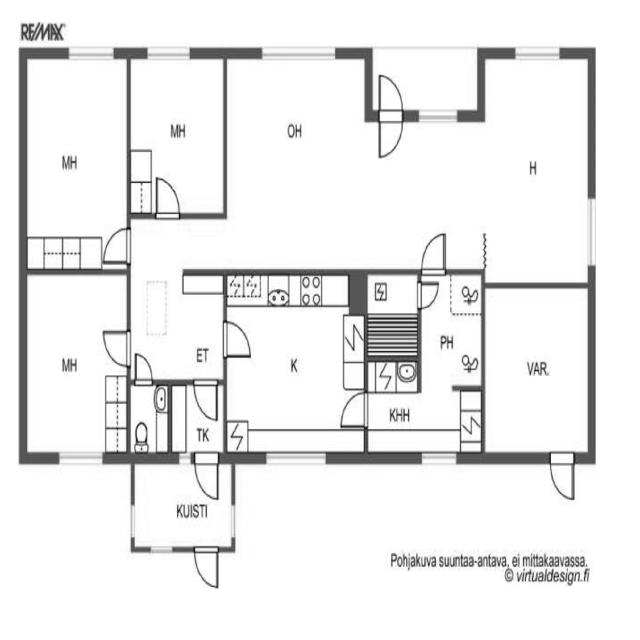door: (373, 72, 406, 163), (545, 445, 579, 507), (417, 227, 450, 285), (190, 447, 222, 504), (190, 540, 222, 594), (190, 375, 222, 425), (152, 174, 184, 222), (100, 325, 134, 370), (336, 387, 369, 430), (222, 317, 254, 361), (101, 224, 133, 268), (414, 277, 442, 311), (132, 348, 154, 389)
window: (260, 446, 335, 473), (581, 188, 602, 278), (258, 42, 338, 65), (50, 446, 109, 474), (62, 40, 120, 68), (510, 40, 565, 68), (140, 40, 195, 67), (409, 106, 462, 130), (418, 446, 460, 471), (144, 541, 180, 560)
zone: (224, 51, 372, 267), (477, 47, 592, 284), (226, 270, 366, 454), (22, 53, 132, 271), (366, 267, 480, 458), (22, 270, 132, 456), (482, 282, 593, 460), (128, 53, 226, 217), (130, 216, 224, 382), (132, 461, 235, 552), (419, 271, 483, 389), (363, 269, 420, 358), (128, 382, 171, 457)
